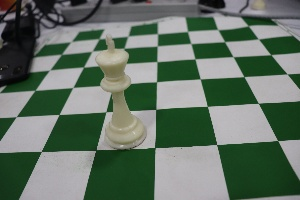white_king: (87, 26, 159, 164)
